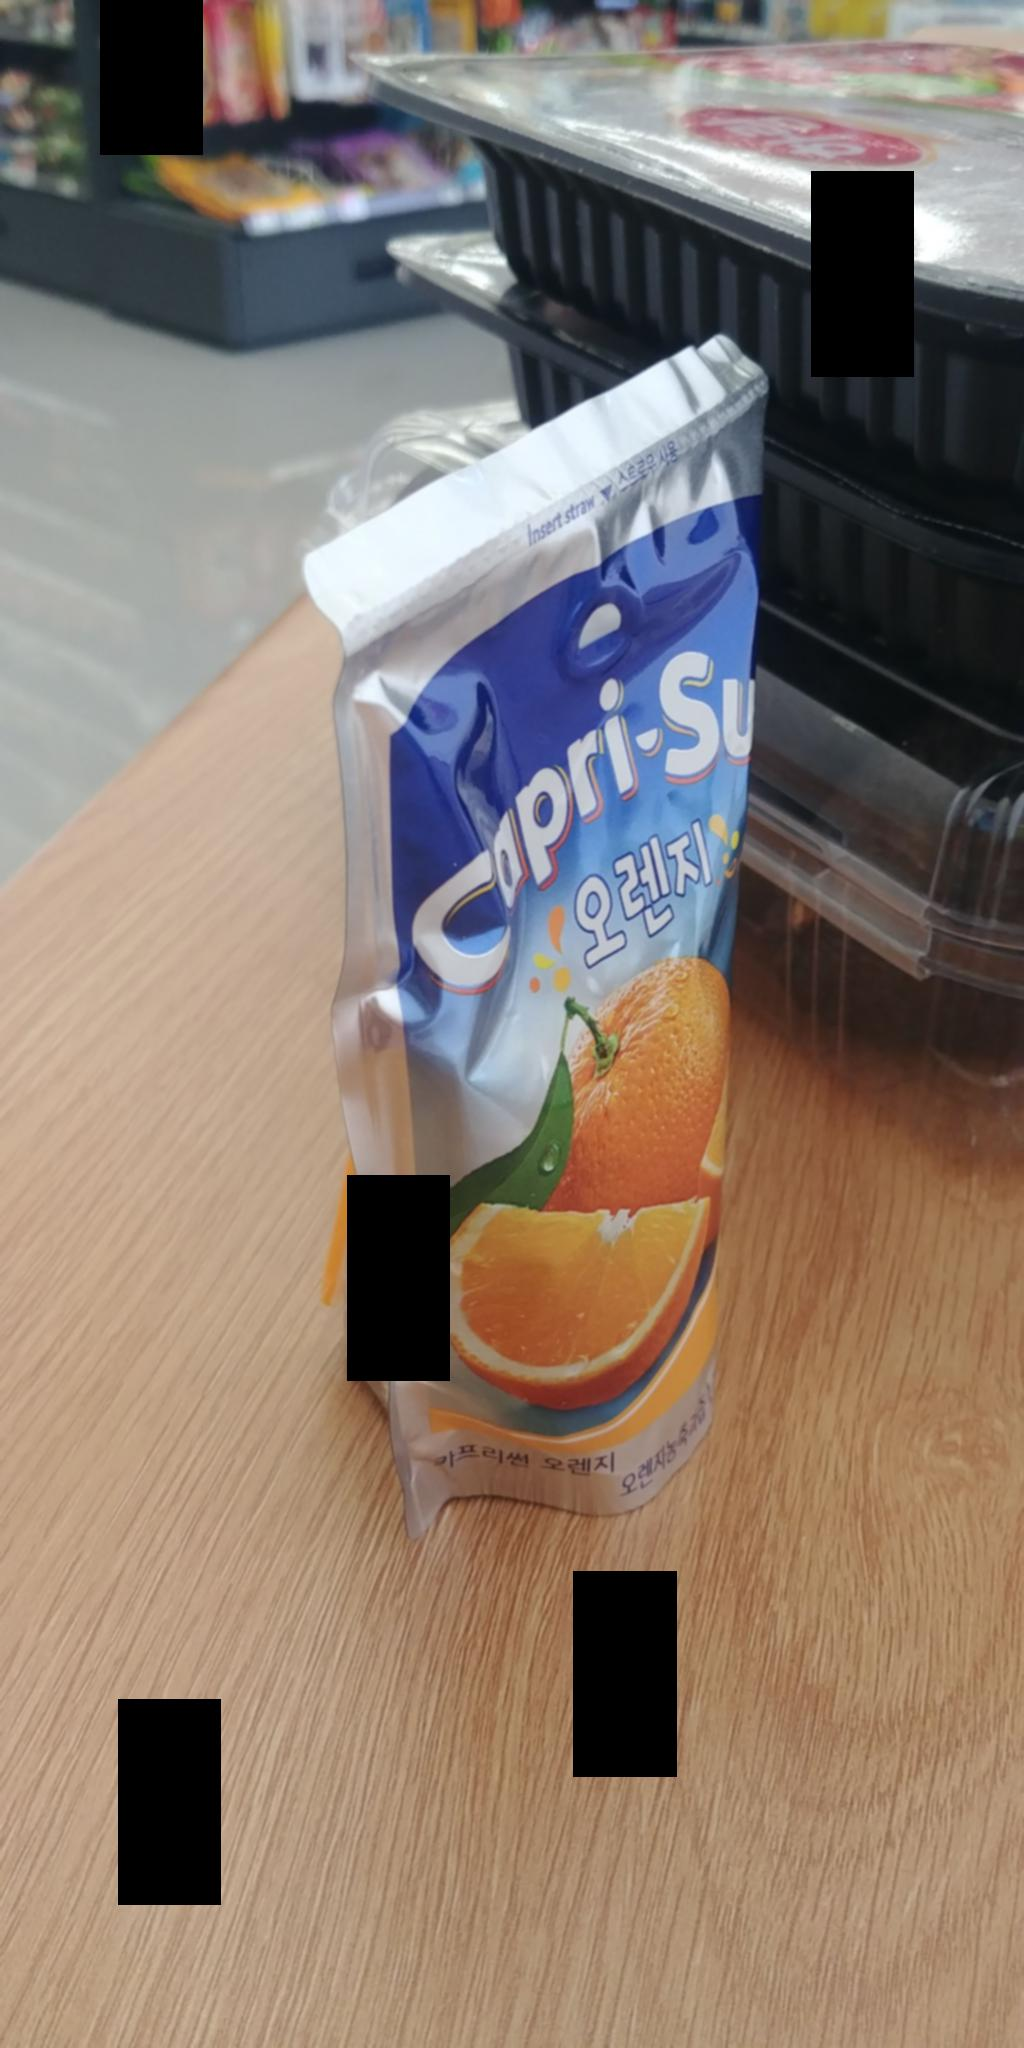cafrisun: (289, 334, 833, 1573)
